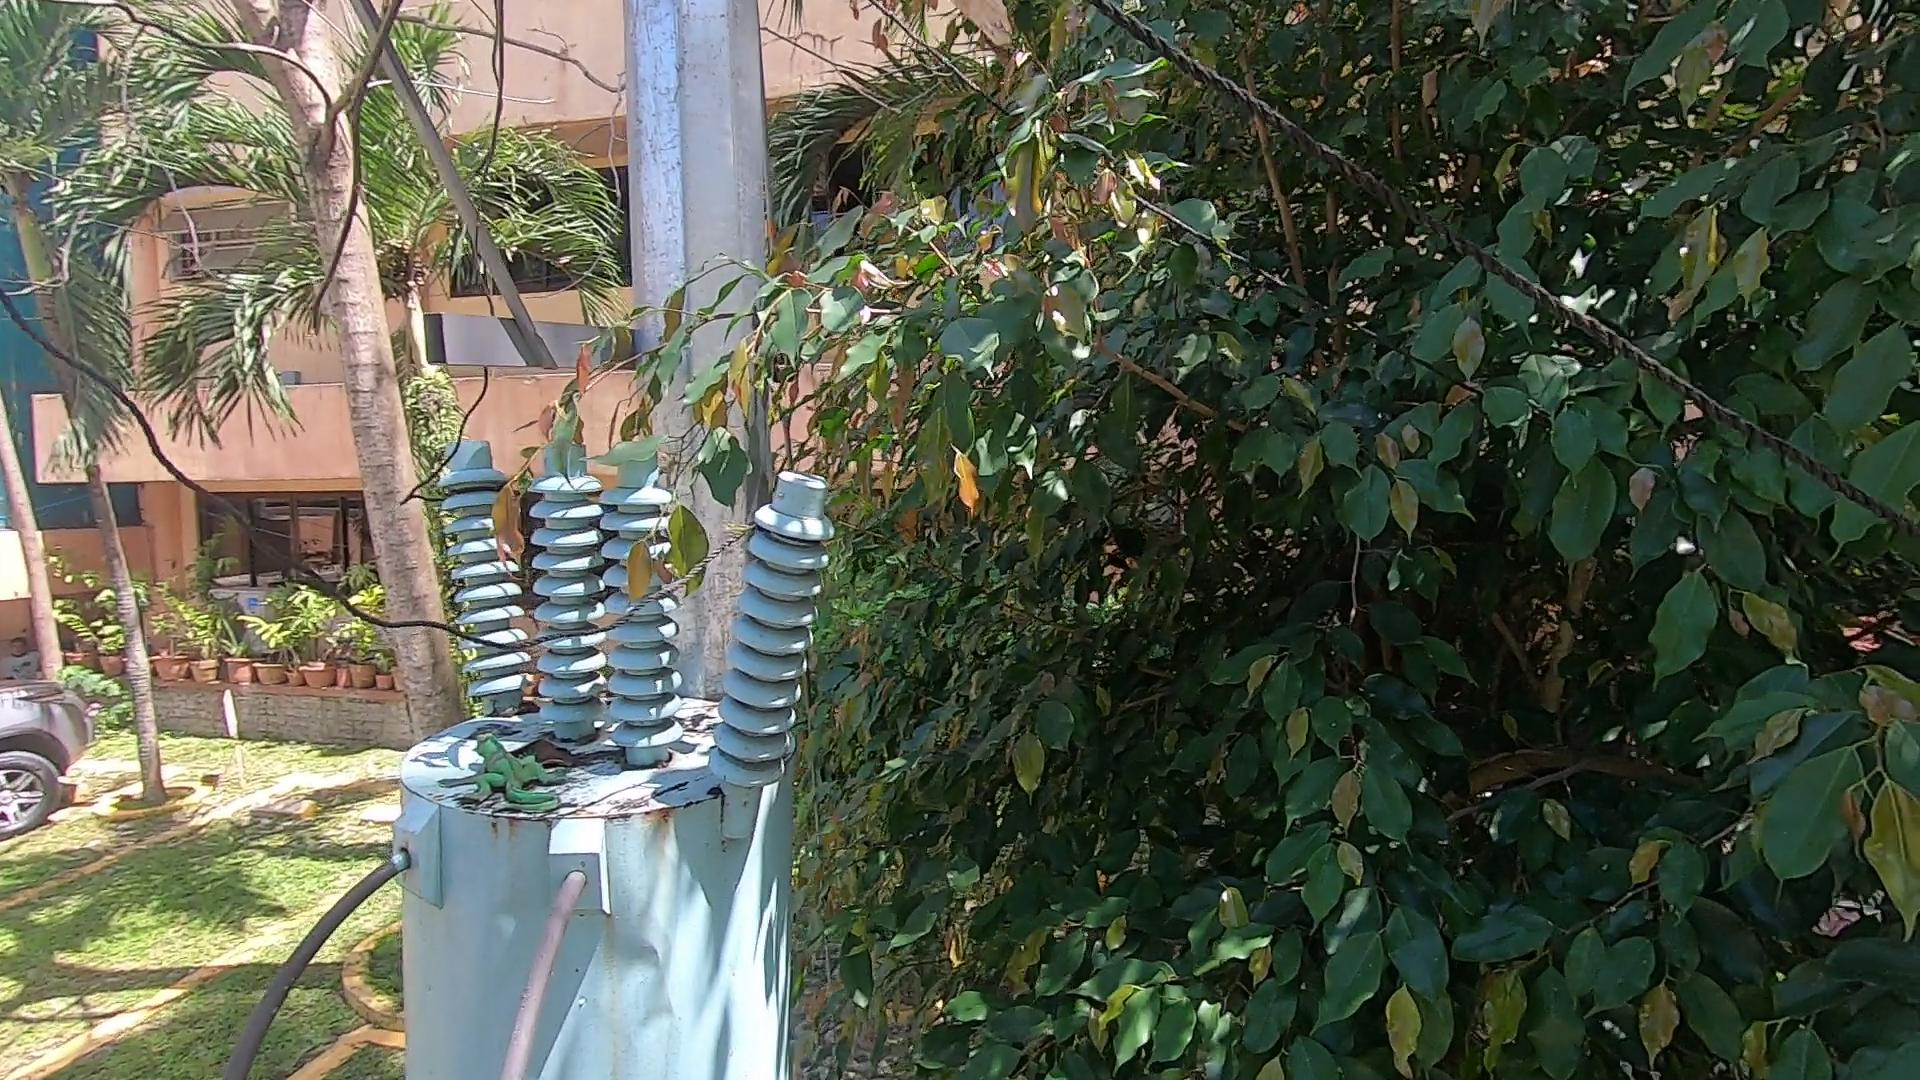branch with leaves: (481, 276, 783, 597)
leaf: (491, 741, 612, 778), (683, 707, 733, 742), (502, 695, 551, 724)
